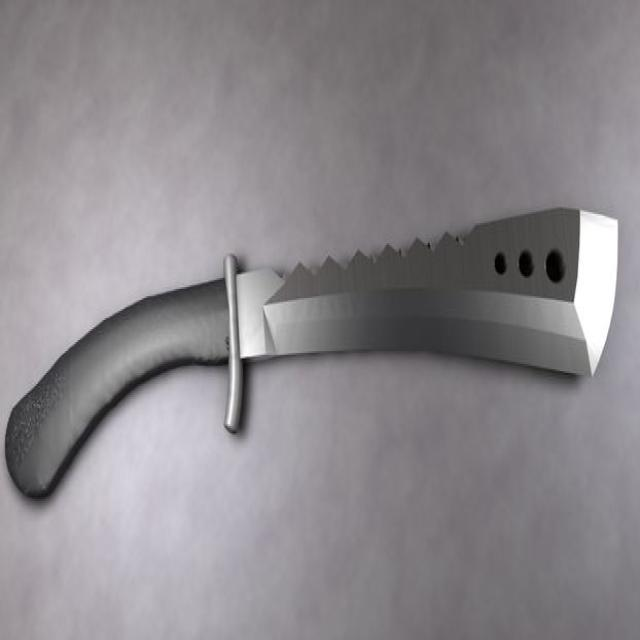knife: (4, 208, 619, 502)
